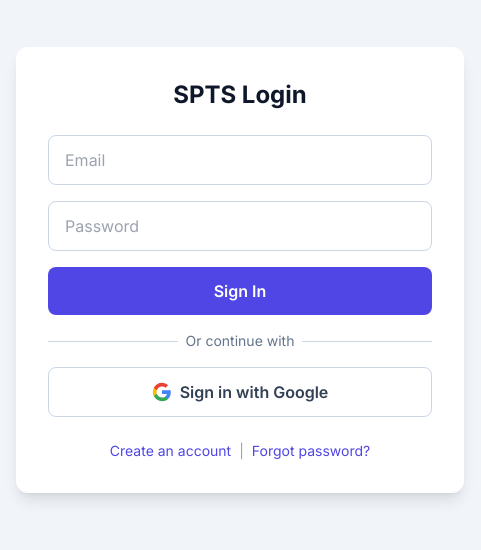
Test: Login › Email Login › should display error message on login failure
Type "test@example.com" into the field with placeholder "Email" at coordinates (240, 160), box [48,135,432,185]
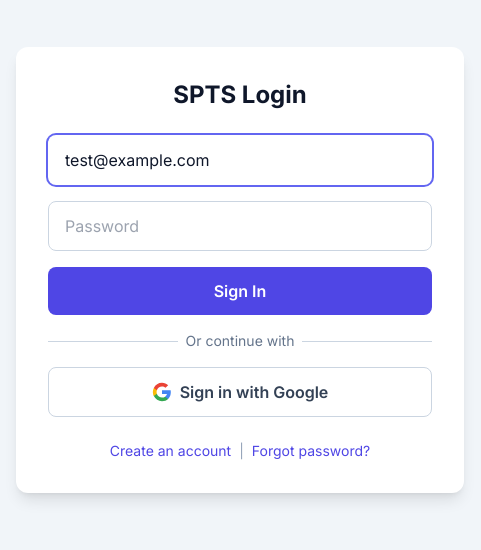
Type "wrongpassword" into the password field with placeholder "Password" at coordinates (240, 226), box [48,201,432,251]
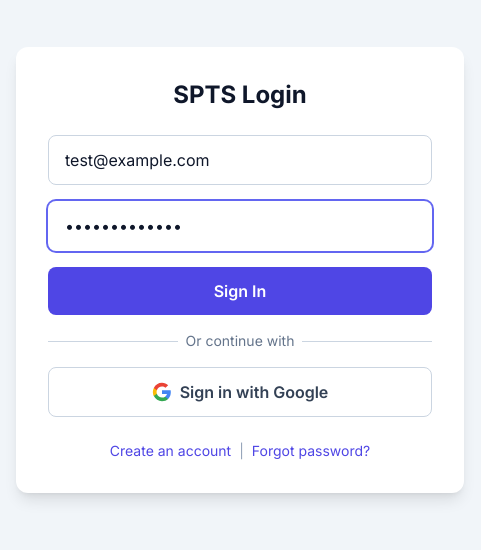
Click the button "Sign In" at coordinates (240, 291), box [48,267,432,315]
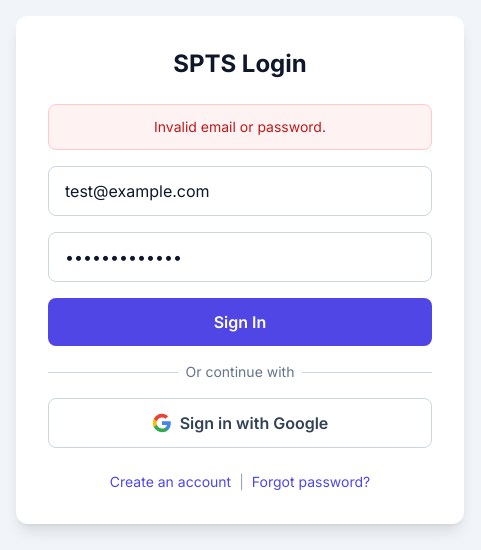
expect the text "Invalid email or password." is shown: met, box [48,104,432,150]
